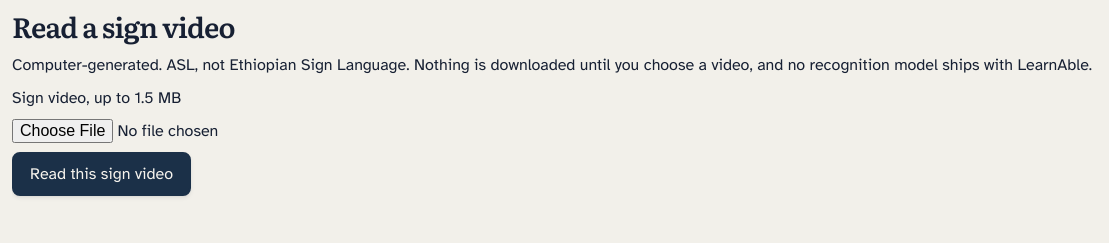
Scenario: sign video › asks the transcript service and shows the unavailable reply without a key
Earlier steps of the test are not shown.
Click the button "Read this sign video" at (102, 174), box [12,152,191,196]
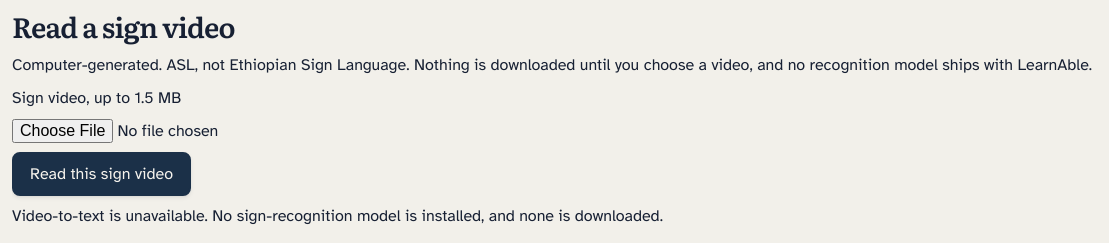
Check: the text "Video-to-text is unavailable" is shown, box [12,206,663,226]
